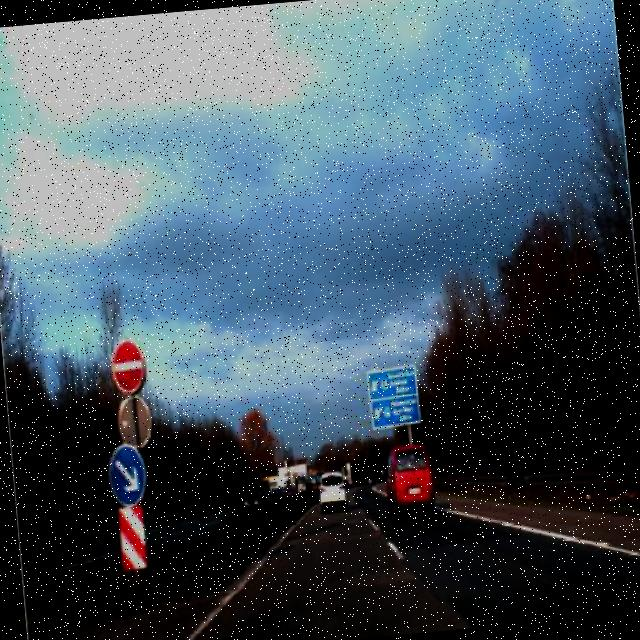Zakaz wjazdu: (110, 337, 150, 398)
